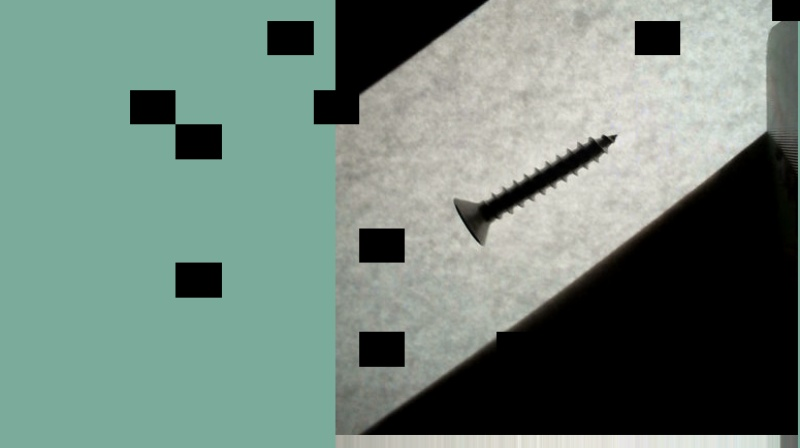S001: (448, 124, 623, 248)
